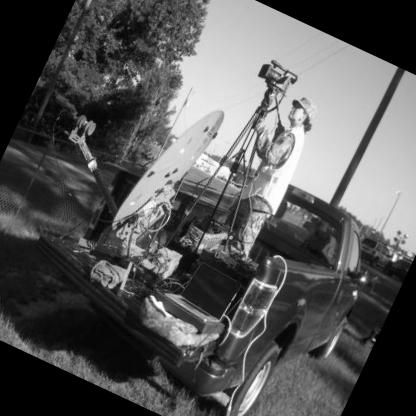truck: (13, 76, 415, 416)
